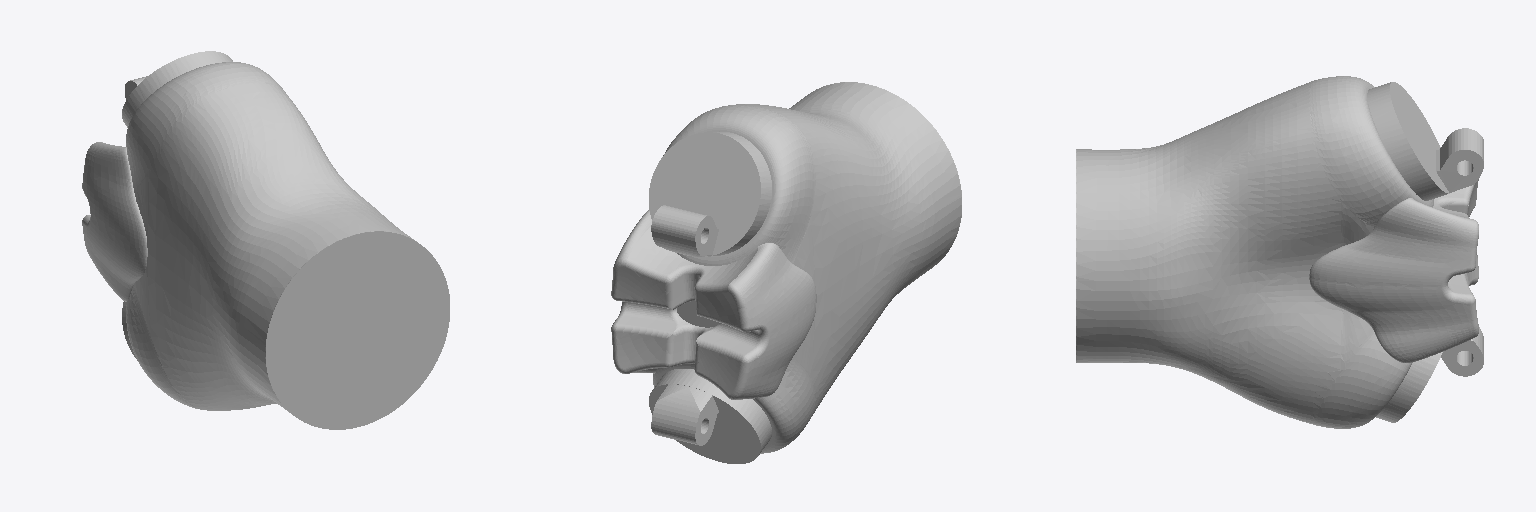
The model's file is processed_hand_2finger.obj.
3 renders of one model, left to right at view 1: azimuth 30°, elevation 25°; view 2: azimuth 150°, elevation 25°; view 3: azimuth 270°, elevation 25°, orthographic.
Parts seen in each view (by area): view 1: hand_2finger; view 2: hand_2finger; view 3: hand_2finger.
Part boxes in pixels (bbox=[...]): hand_2finger: bbox=[82, 51, 449, 429]; hand_2finger: bbox=[611, 82, 961, 463]; hand_2finger: bbox=[1076, 76, 1483, 428].
Size of the model in its own units: 0.063 by 0.1085 by 0.1204.